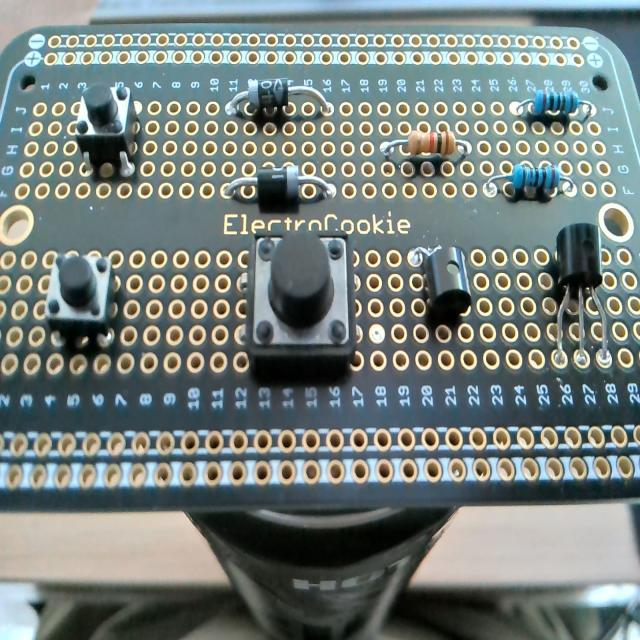diode: (223, 165, 336, 207), (222, 77, 332, 120)
resistor: (377, 124, 472, 162), (513, 163, 560, 198), (532, 88, 578, 115)
switch: (247, 229, 356, 372), (73, 81, 140, 177), (45, 250, 115, 341)
transistor: (540, 219, 623, 369), (404, 236, 476, 321)
